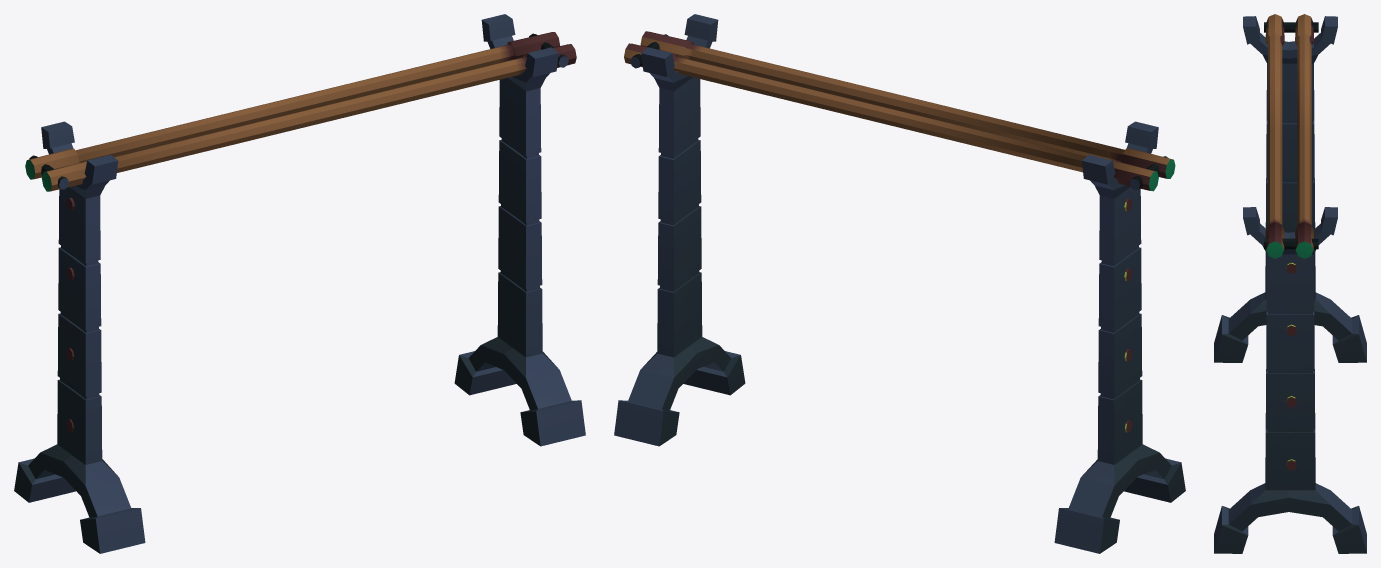
File: sis_lv3.fbx
3 renders of one model, left to right at view 1: azimuth 30°, elevation 25°; view 2: azimuth 150°, elevation 25°; view 3: azimuth 270°, elevation 25°, orthographic. The views are drawn at different scales.
Parts seen in each view (by area): view 1: Cube.001, Cube.002, Cube.003, Cube; view 2: Cube.001, Cube.002, Cube, Cube.003; view 3: Cube.001, Cube.002, Cube, Cube.003, Cube.013, Cube.005, Cube.004.
Boxes of the visible parts, x1,y1,x2,y2 form: Cube.001: [454, 14, 585, 446]; Cube.002: [14, 121, 145, 553]; Cube.003: [25, 32, 559, 179]; Cube: [41, 44, 576, 191]; Cube.001: [614, 14, 745, 446]; Cube.002: [1054, 121, 1185, 553]; Cube: [640, 31, 1175, 178]; Cube.003: [624, 43, 1158, 191]; Cube.001: [1214, 207, 1366, 553]; Cube.002: [1214, 16, 1366, 362]; Cube: [1265, 14, 1284, 258]; Cube.003: [1295, 14, 1313, 258]; Cube.013: [1286, 262, 1296, 470]; Cube.005: [1264, 238, 1318, 249]; Cube.004: [1264, 22, 1318, 32].
Size of the model in its own units: 312 by 88.27 by 211.
